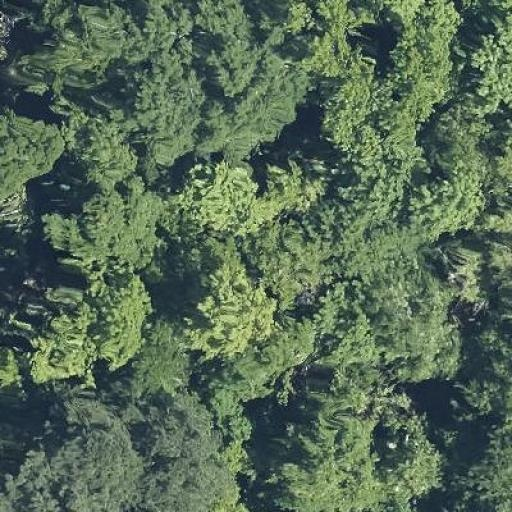tree-top: (4, 397, 229, 511), (278, 375, 444, 511), (36, 177, 166, 280), (17, 2, 128, 102), (166, 157, 300, 237), (217, 46, 310, 153), (176, 272, 286, 358), (309, 196, 412, 284), (383, 2, 461, 118), (379, 278, 473, 368), (92, 268, 163, 380), (30, 284, 100, 391), (296, 289, 385, 366), (139, 56, 203, 161), (458, 7, 512, 130), (405, 161, 485, 238), (0, 104, 68, 194), (292, 0, 370, 76), (70, 112, 145, 186), (451, 426, 512, 512), (200, 23, 259, 107), (135, 0, 202, 57), (328, 75, 376, 153)
